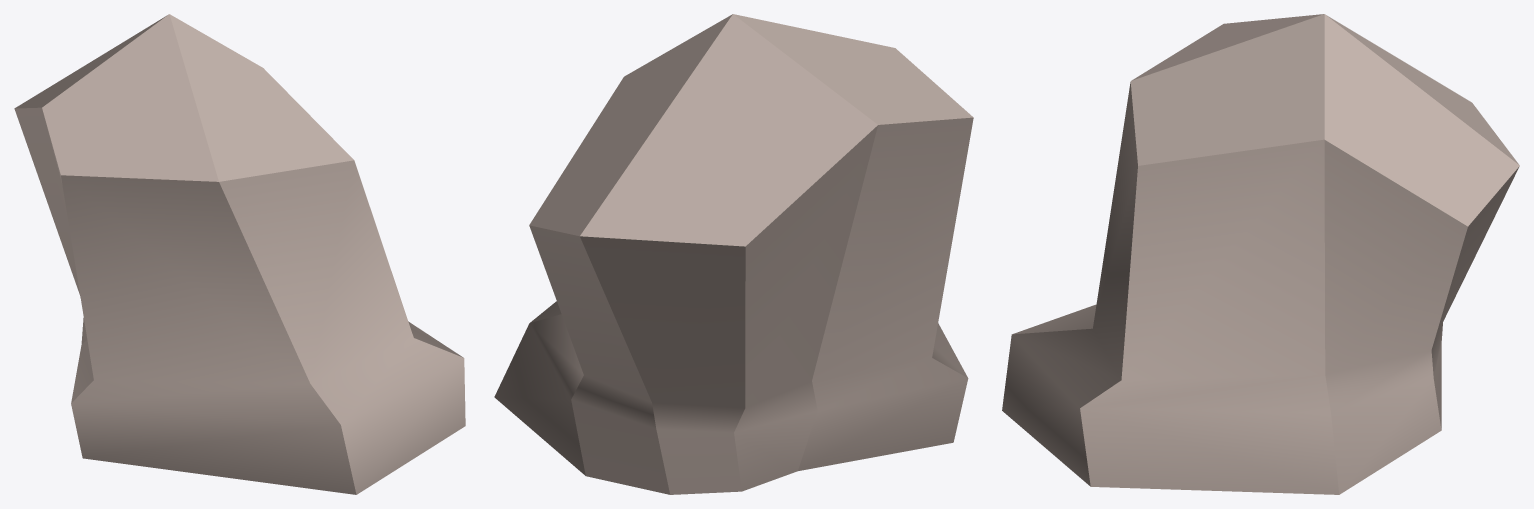
The model's file is Rock_4.fbx.
3 views of the same model, side by side, from view 1: azimuth 30°, elevation 25°; view 2: azimuth 150°, elevation 25°; view 3: azimuth 270°, elevation 25° (orthographic). The views are drawn at different scales.
Visible parts, largest first — view 1: pasted__pPlatonic5; view 2: pasted__pPlatonic5; view 3: pasted__pPlatonic5.
Part boxes in pixels (x1,y1,x2,y2): pasted__pPlatonic5: [14, 14, 465, 494]; pasted__pPlatonic5: [494, 14, 973, 494]; pasted__pPlatonic5: [1002, 14, 1519, 494].
Bounding box in the file's own units: 1060 × 1061 × 1304.
